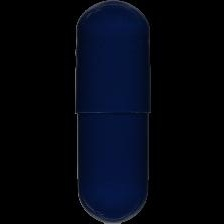67046-589: (0, 0, 224, 224)
